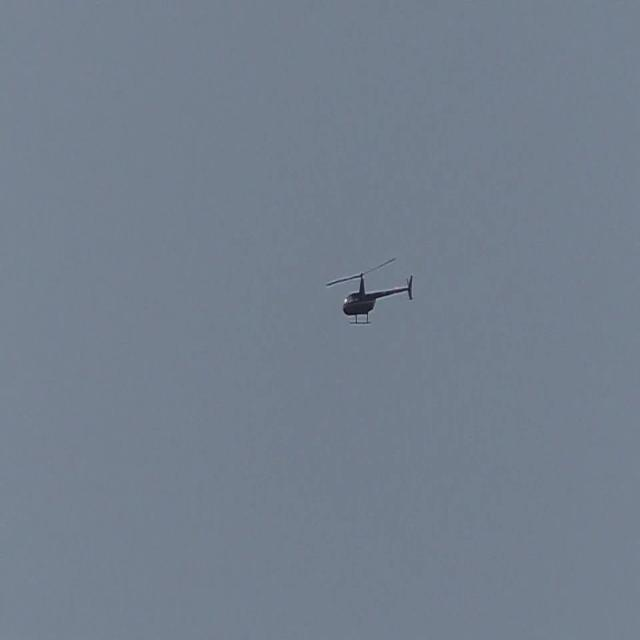CIV_HELO: (342, 272, 414, 326)
